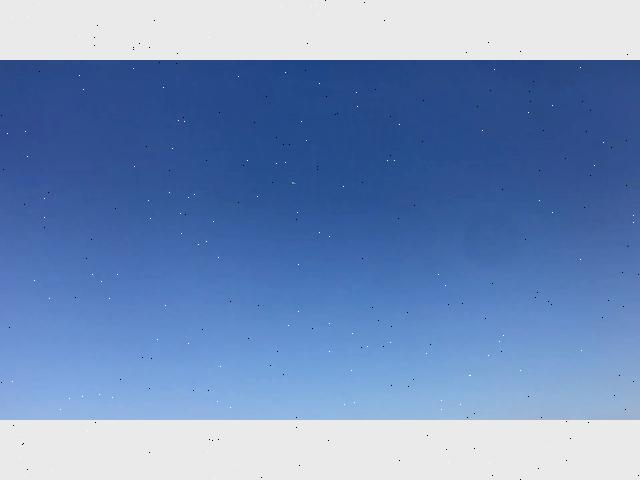Anti-Drone: (285, 173, 303, 191)
